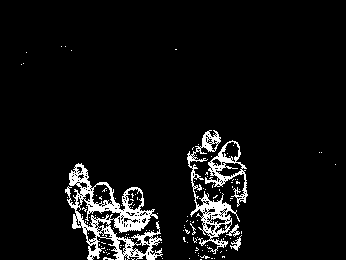person: (185, 188, 240, 260), (113, 186, 163, 260), (88, 179, 125, 260), (212, 137, 248, 217), (188, 127, 219, 212), (66, 161, 94, 241)
